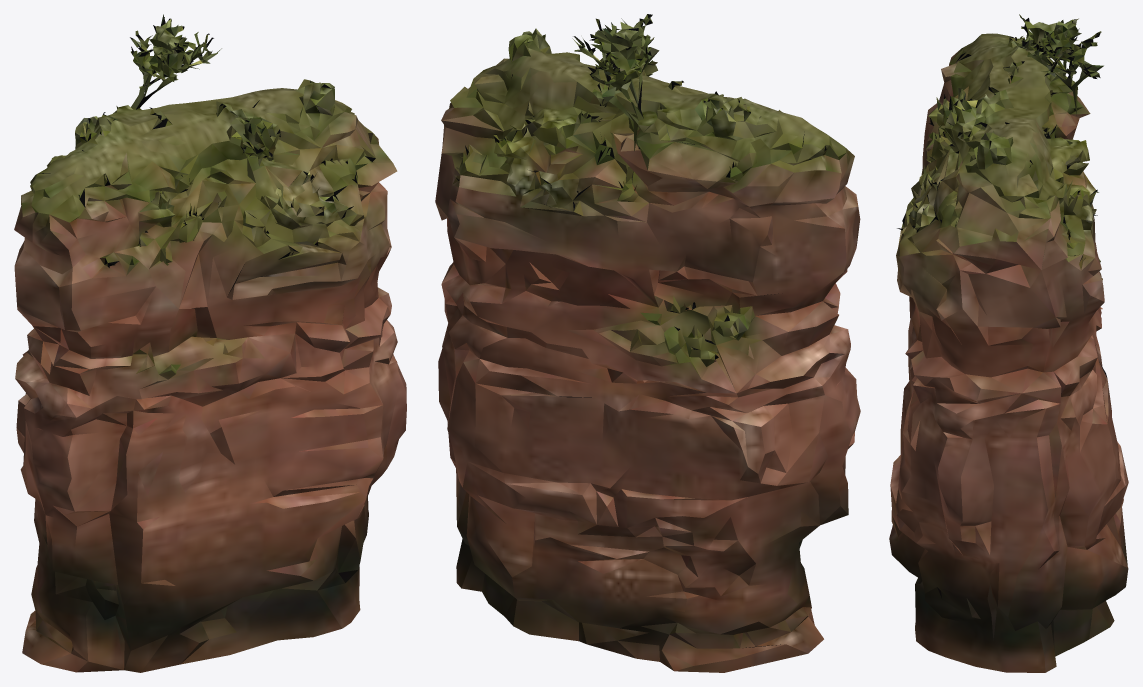
The model's file is sea_stack.glb.
The picture shows the model from 3 angles, left to right: view 1: azimuth 30°, elevation 25°; view 2: azimuth 150°, elevation 25°; view 3: azimuth 270°, elevation 25°; orthographic projection. The views are drawn at different scales.
Visible parts, largest first — view 1: sea_stack; view 2: sea_stack; view 3: sea_stack.
Boxes of the visible parts, x1,y1,x2,y2 form: sea_stack: (14,14,406,672); sea_stack: (435,14,860,672); sea_stack: (889,14,1128,672).
Size of the model in its own units: 0.6731 by 0.9986 by 0.3744.
Materials: 1 (1 with a texture image).
